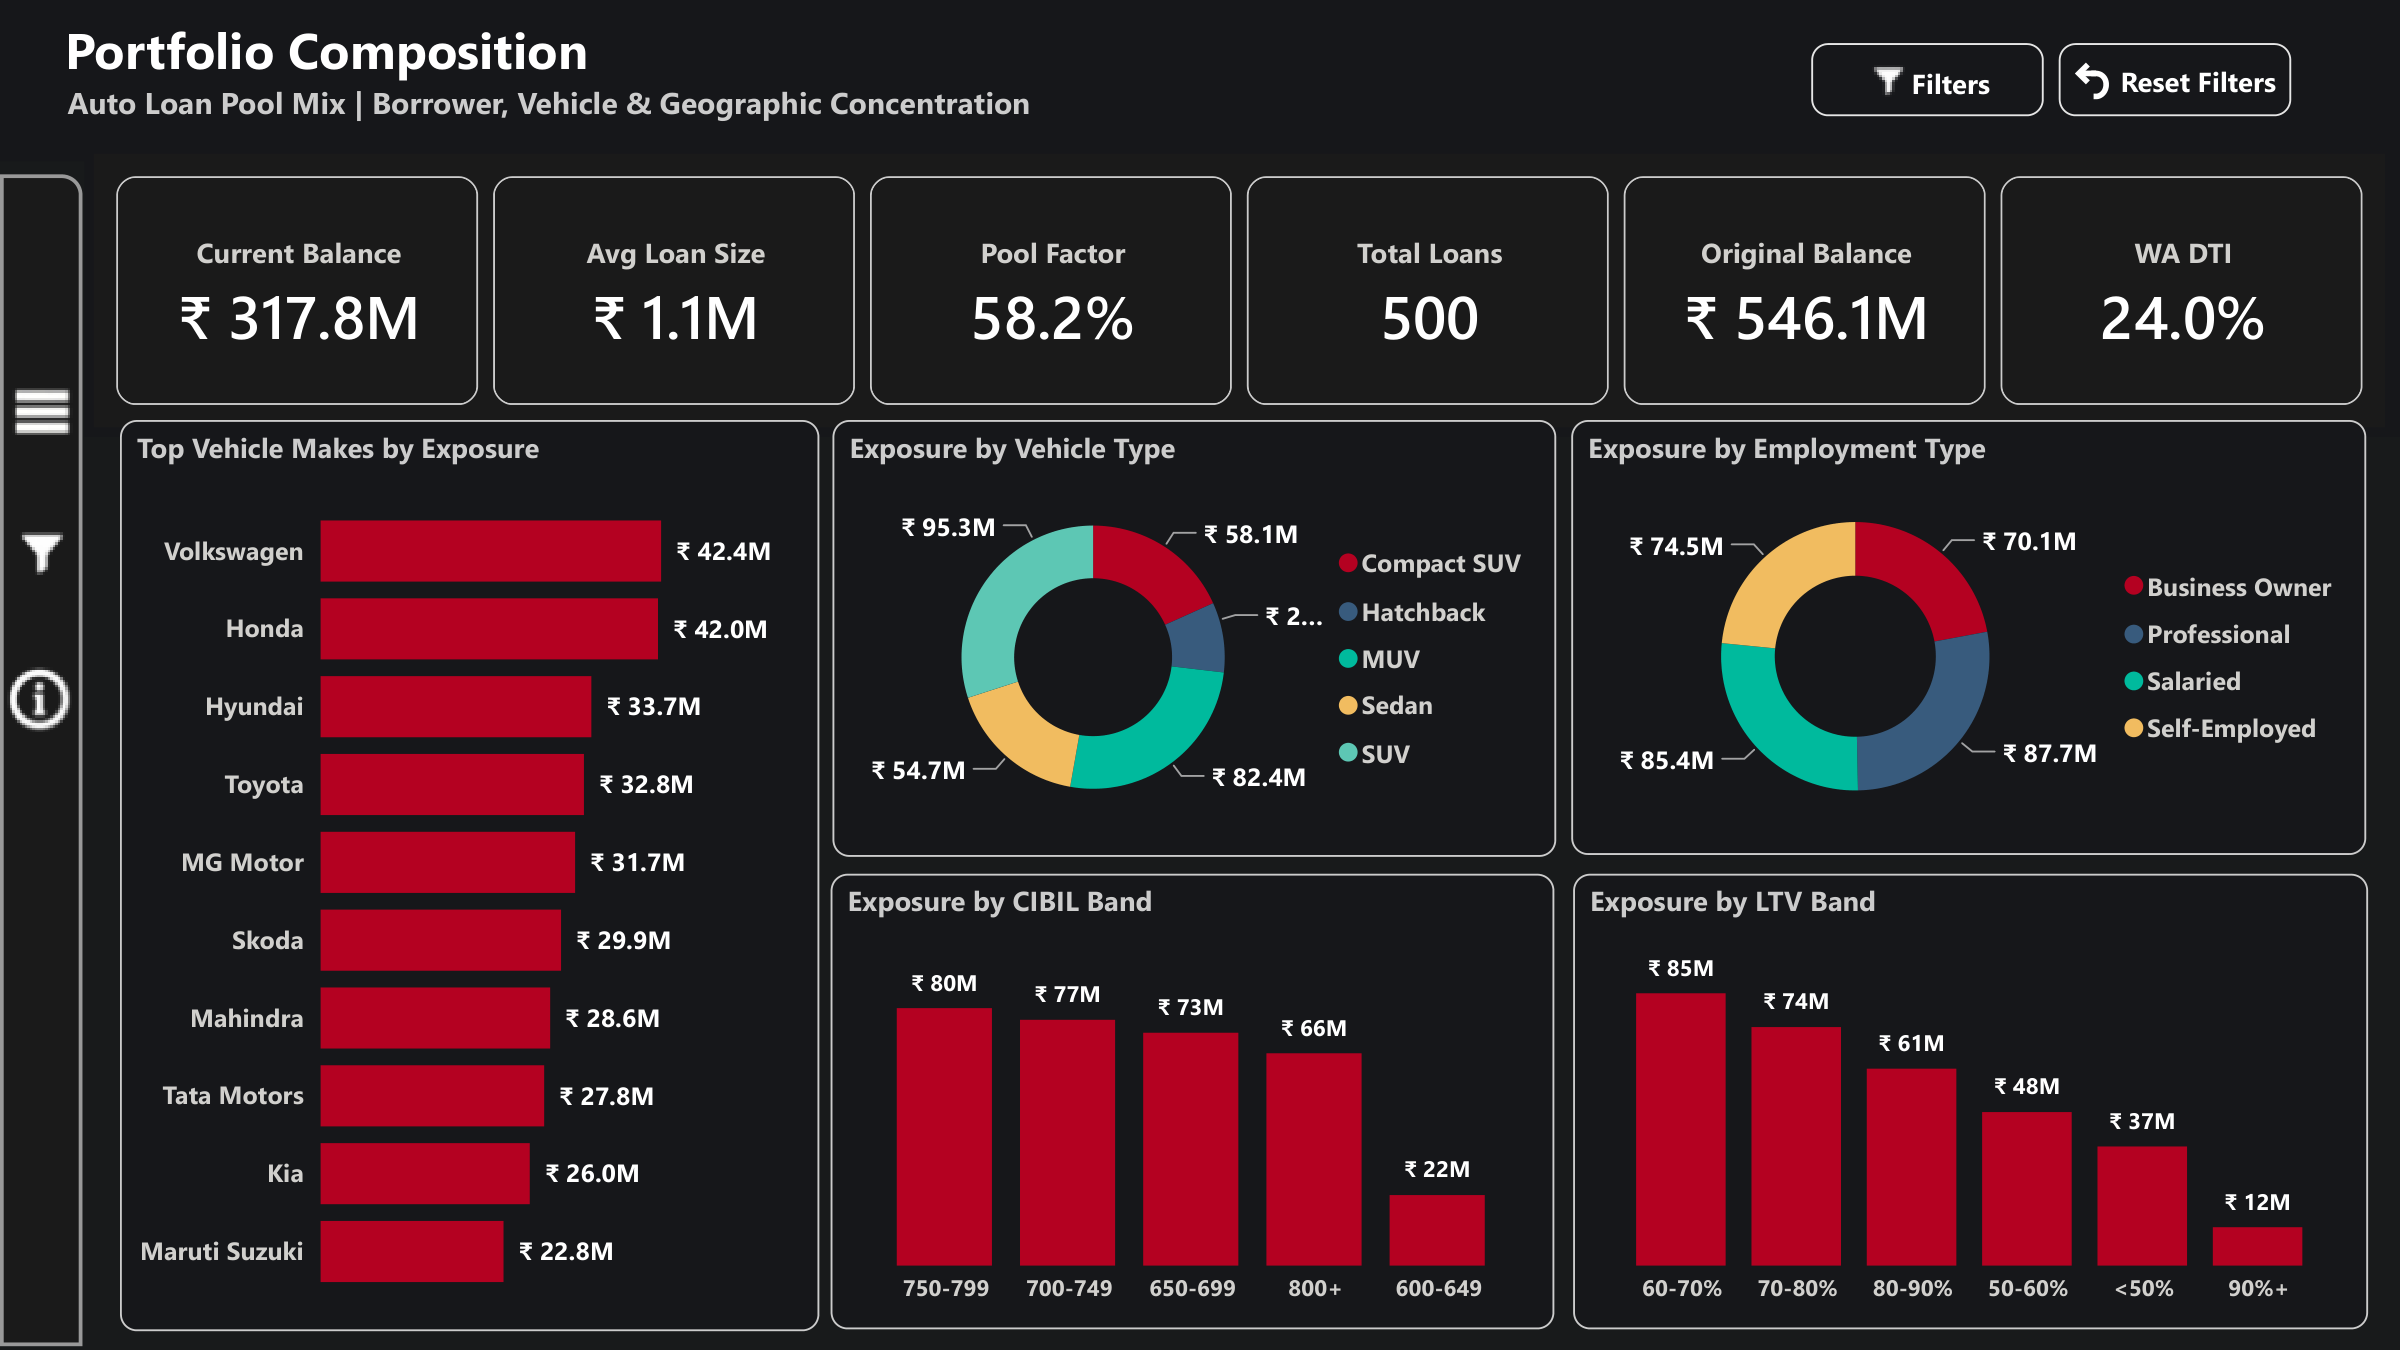

This screenshot's page, from the dashboard's own definition file:
{"tool":"powerbi","page":{"name":"Portfolio Composition","canvas":[1280,720],"ordinal":1},"visuals":[{"type":"group","id":"g1","title":"default page ","box":[0,0,1280,86.5],"z":0},{"type":"textbox","title":"Executive Overview","box":[0,0,1280,86.5],"z":0,"group":"g1"},{"type":"cardVisual","fields":{"Data":["Loan_Master.Total Current Balance","Loan_Master.Average Loan Size","Loan_Master.Pool Factor","Loan_Master.Total Loans","Loan_Master.Total Original Balance","Loan_Master.WA DTI"]},"box":[45,77.1,1235,155.9],"z":0,"group":"g3"},{"type":"shape","box":[0,93.3,44.5,625],"z":0,"group":"g2"},{"type":"shape","box":[350.8,142.2,576.7,429.8],"z":0,"group":"g4"},{"type":"actionButton","box":[1097.5,23.1,124.4,39],"z":1000,"group":"g1"},{"type":"textbox","box":[350,172.9,577.3,398.9],"z":1000,"group":"g4"},{"type":"actionButton","box":[0,180.5,44.7,77.6],"z":1000,"group":"g2"},{"type":"donutChart","title":"Exposure by Employment Type","fields":{"Category":["Loan_Master.EmploymentType"],"Y":["Loan_Master.Total Current Balance"]},"box":[838.2,224.4,424.1,231.6],"z":1000,"group":"g3"},{"type":"actionButton","box":[965.9,23.1,124.4,39],"z":2000,"group":"g1"},{"type":"shape","box":[350,120,579.1,52.1],"z":2000,"group":"g4"},{"type":"donutChart","title":"Exposure by Vehicle Type","fields":{"Y":["Loan_Master.Total Current Balance"],"Category":["Loan_Master.VehicleType"]},"box":[444.1,224.4,385.6,233],"z":2000,"group":"g3"},{"type":"actionButton","box":[0,257.1,45,76.9],"z":2000,"group":"g2"},{"type":"group","id":"g2","title":"navigation bar","box":[0,93.3,45,625],"z":3000},{"type":"actionButton","box":[887.2,120,42.8,53.8],"z":3000,"group":"g4"},{"type":"clusteredBarChart","title":"Top Vehicle Makes by Exposure","fields":{"Category":["Loan_Master.VehicleMake"],"Y":["Loan_Master.Total Current Balance"]},"box":[64.2,224.4,372.7,486],"z":3000,"group":"g3"},{"type":"actionButton","box":[0,334.1,45,78.3],"z":3000,"group":"g2"},{"type":"textbox","box":[398.6,120,406.2,49.7],"z":4000,"group":"g4"},{"type":"clusteredColumnChart","title":"Exposure by CIBIL Band","fields":{"Category":["Loan_Master.CIBIL Band"],"Y":["Loan_Master.Total Current Balance"]},"box":[443.4,465.9,385.6,243],"z":4000,"group":"g3"},{"type":"group","id":"g3","title":"charts unfolded 2","box":[45,77.1,1235,633.3],"z":5000},{"type":"actionButton","box":[377.2,125.9,27.2,32],"z":5000,"group":"g4"},{"type":"clusteredColumnChart","title":"Exposure by LTV Band","fields":{"Category":["Loan_Master.LTV Band"],"Y":["Loan_Master.Total Current Balance"]},"box":[838.7,466.5,424.1,243],"z":5000,"group":"g3"},{"type":"group","id":"g4","title":"info","box":[350,120,580,452],"z":7000}]}

Visuals, with their boxes in screenshot pixels (x1, y1, x2, y2), scaled from the page's 1280x720 canvas onto the 2400x1350 screenshot:
"default page " group: Rect(0, 0, 2399, 162)
"Executive Overview" textbox: Rect(0, 0, 2399, 162)
cardVisual - Loan_Master.Total Current Balance x Loan_Master.Average Loan Size: Rect(84, 145, 2399, 437)
shape: Rect(0, 175, 83, 1347)
shape: Rect(658, 267, 1739, 1072)
actionButton: Rect(2058, 43, 2291, 116)
textbox: Rect(656, 324, 1739, 1072)
actionButton: Rect(0, 338, 84, 484)
"Exposure by Employment Type" donutChart: Rect(1572, 421, 2367, 855)
actionButton: Rect(1811, 43, 2044, 116)
shape: Rect(656, 225, 1742, 323)
"Exposure by Vehicle Type" donutChart: Rect(833, 421, 1556, 858)
actionButton: Rect(0, 482, 84, 626)
"navigation bar" group: Rect(0, 175, 84, 1347)
actionButton: Rect(1664, 225, 1744, 326)
"Top Vehicle Makes by Exposure" clusteredBarChart: Rect(120, 421, 819, 1332)
actionButton: Rect(0, 626, 84, 773)
textbox: Rect(747, 225, 1509, 318)
"Exposure by CIBIL Band" clusteredColumnChart: Rect(831, 874, 1554, 1329)
"charts unfolded 2" group: Rect(84, 145, 2399, 1332)
actionButton: Rect(707, 236, 758, 296)
"Exposure by LTV Band" clusteredColumnChart: Rect(1573, 875, 2368, 1330)
"info" group: Rect(656, 225, 1744, 1072)
